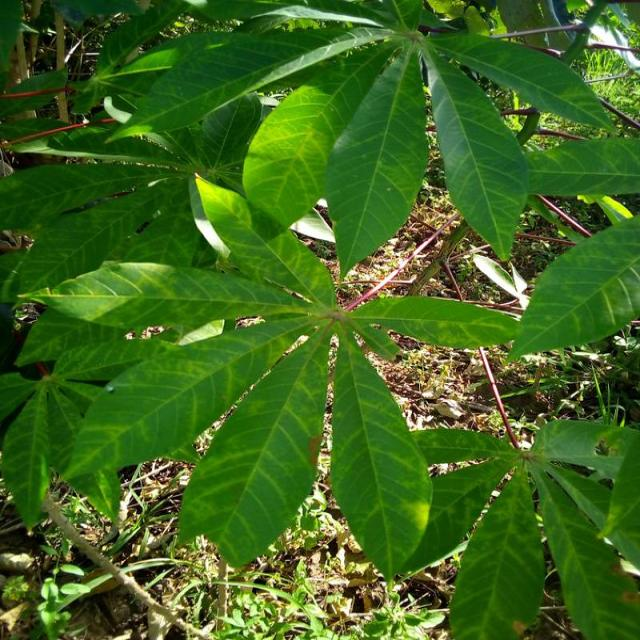cassava leaf: (176, 323, 331, 569), (328, 318, 434, 583), (323, 36, 429, 283), (422, 35, 530, 262), (506, 212, 638, 363)
